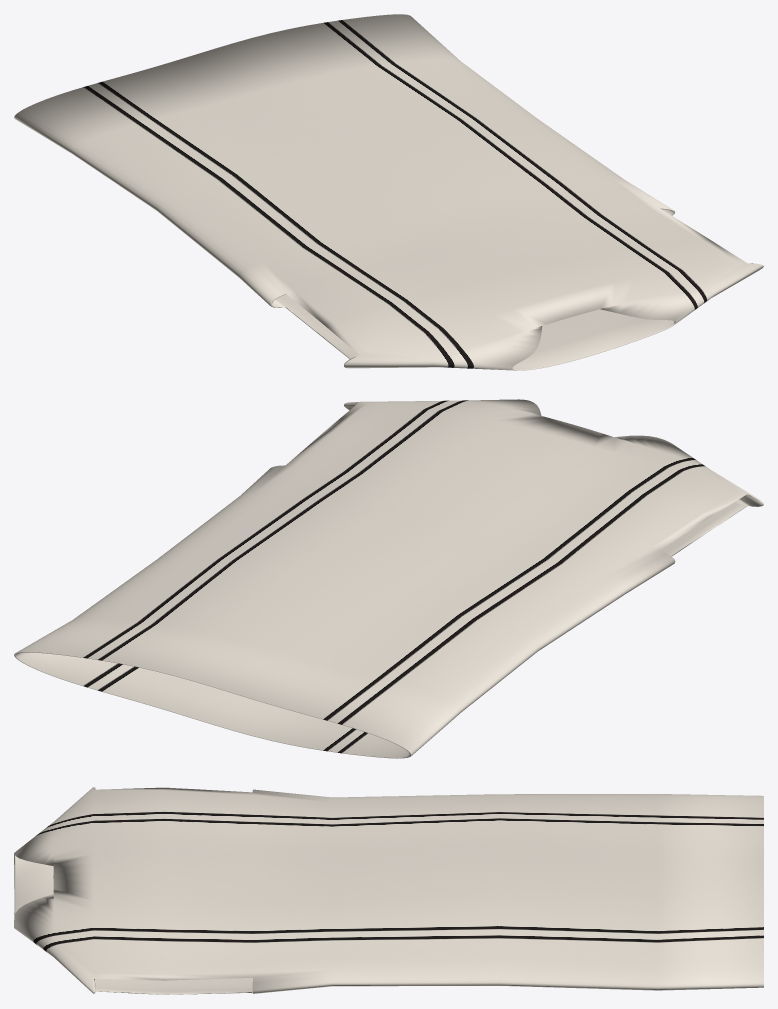
The model's file is M3D_poncho.fbx.
3 views of the same model, one above another, from view 1: azimuth 30°, elevation 25°; view 2: azimuth 150°, elevation 25°; view 3: azimuth 270°, elevation 25° (orthographic).
Visible parts, largest first — view 1: SM_poncho; view 2: SM_poncho; view 3: SM_poncho.
Part boxes in pixels (x1,y1,x2,y2): SM_poncho: [14, 14, 763, 370]; SM_poncho: [14, 399, 763, 758]; SM_poncho: [14, 787, 763, 994].
Size of the model in its own units: 0.5411 by 0.0574 by 0.8511.
